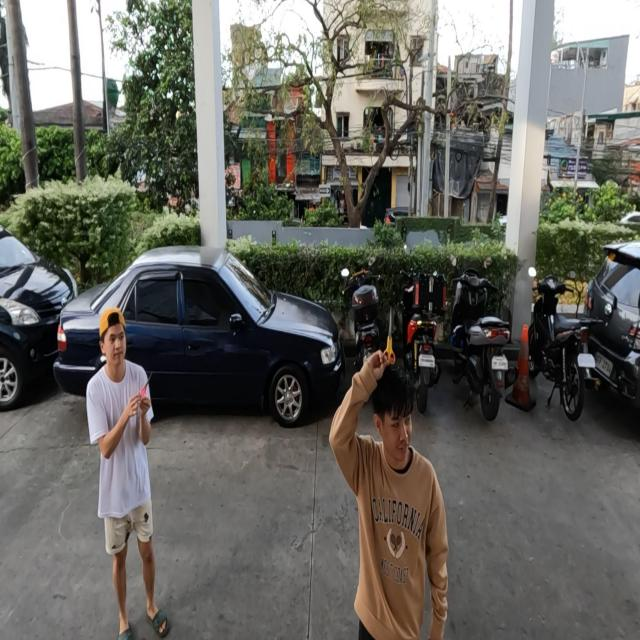scissor: (383, 308, 395, 366), (138, 372, 154, 402)
